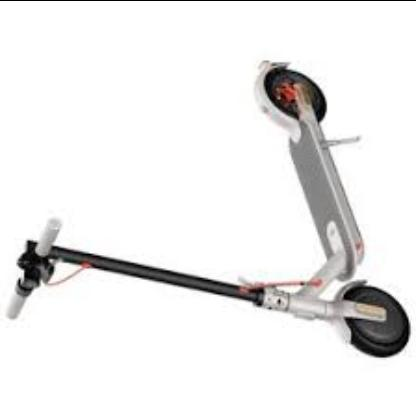bike: (7, 59, 412, 360), (253, 61, 413, 358)
